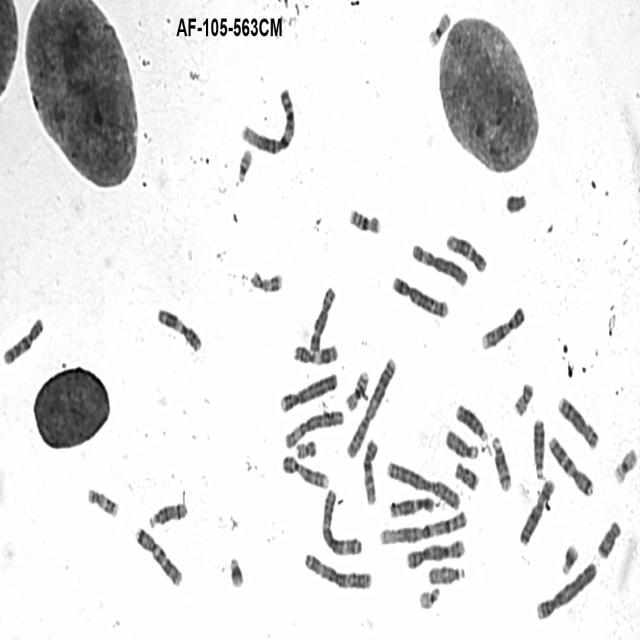A1: (238, 82, 298, 156), (376, 504, 470, 548)
A2: (344, 353, 397, 460), (383, 456, 462, 510)
A3: (302, 547, 374, 592), (320, 485, 364, 557)
B4: (534, 558, 597, 622), (278, 369, 338, 413)
B5: (390, 271, 450, 320), (404, 535, 467, 571)
C10: (0, 312, 46, 366), (360, 434, 380, 507)
C11: (154, 302, 204, 354), (290, 340, 339, 367)
C12: (444, 229, 488, 274), (388, 492, 436, 519)
C6: (410, 238, 469, 287), (281, 406, 345, 451)
C7: (132, 522, 184, 589), (546, 431, 595, 498)
C8: (556, 392, 601, 451), (308, 282, 337, 355)
C9: (478, 300, 526, 351), (279, 450, 331, 491)
D13: (454, 400, 490, 444), (530, 414, 547, 481)
D14: (489, 432, 514, 493), (147, 497, 189, 530)
D15: (443, 424, 480, 460), (426, 561, 468, 586)
E16: (343, 366, 371, 414), (346, 203, 383, 236)
E17: (85, 484, 120, 520), (248, 266, 284, 294)
E18: (594, 515, 623, 560), (452, 456, 482, 492)
F19: (611, 442, 640, 485), (425, 6, 453, 49)
F20: (511, 378, 535, 419), (293, 434, 318, 460)
G21: (558, 539, 580, 576), (226, 550, 246, 590)
G22: (234, 144, 254, 184), (416, 583, 441, 611)
X: (516, 475, 556, 548)
Y: (503, 188, 528, 214)
